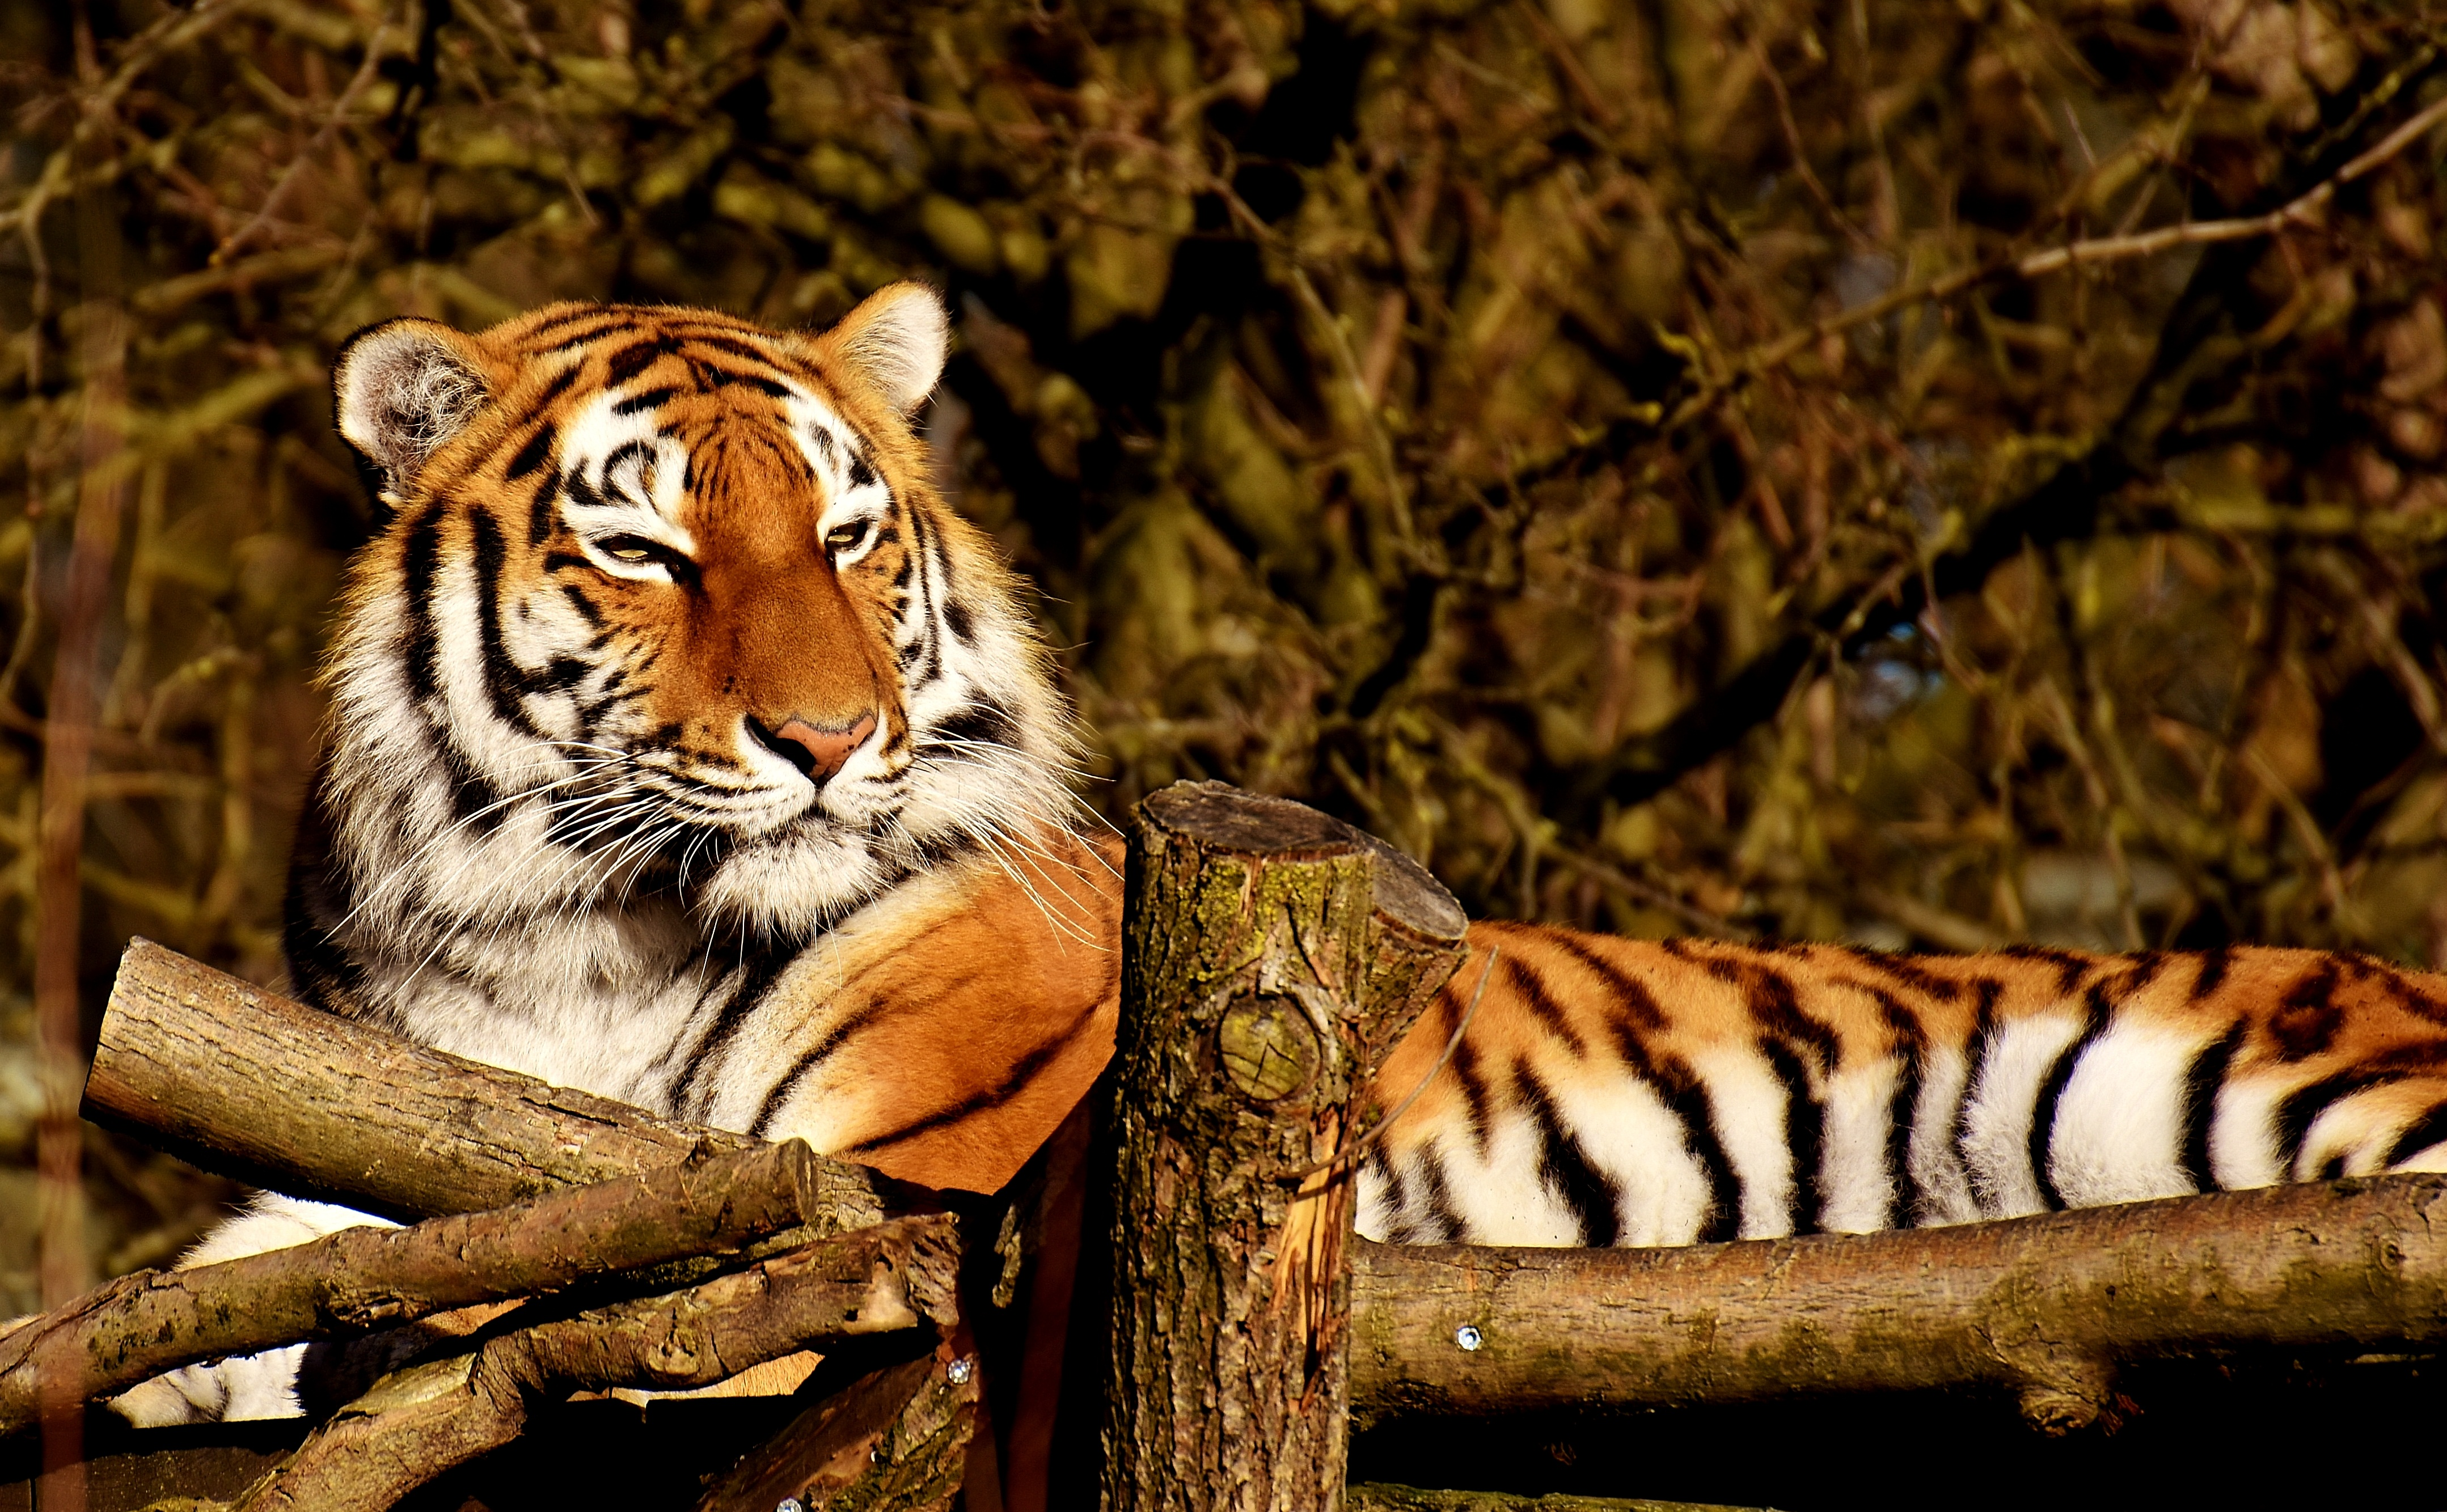tiger: (217, 260, 2398, 1292)
